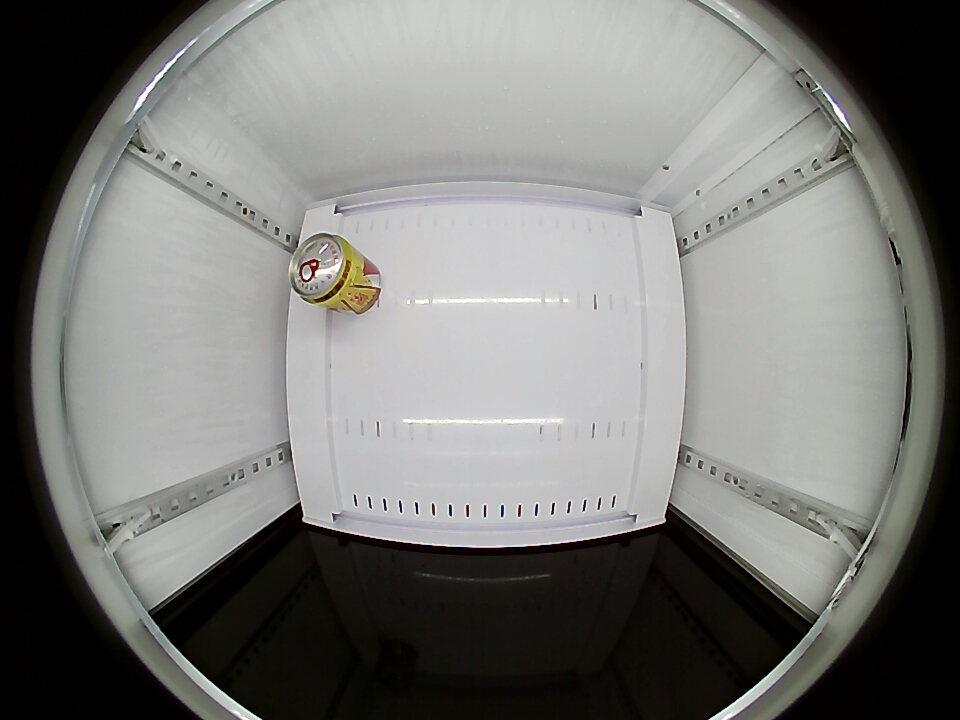dongpeng: (289, 232, 359, 307)
